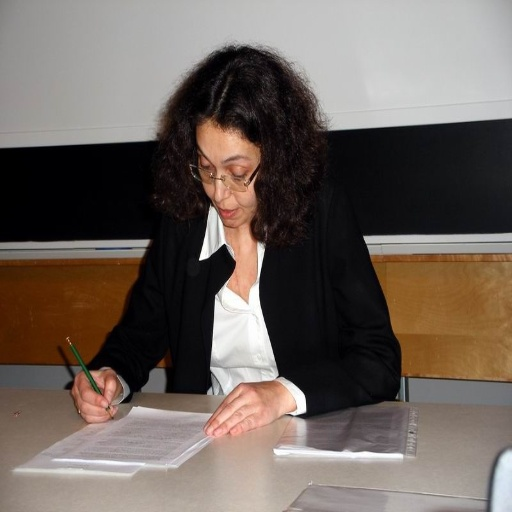hand: (202, 378, 303, 448), (70, 368, 119, 423)
